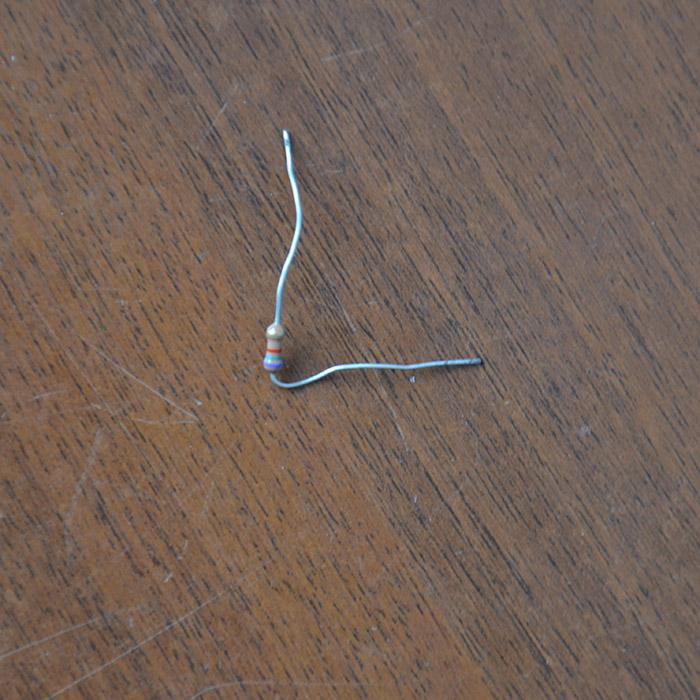resistor: (261, 321, 285, 370)
